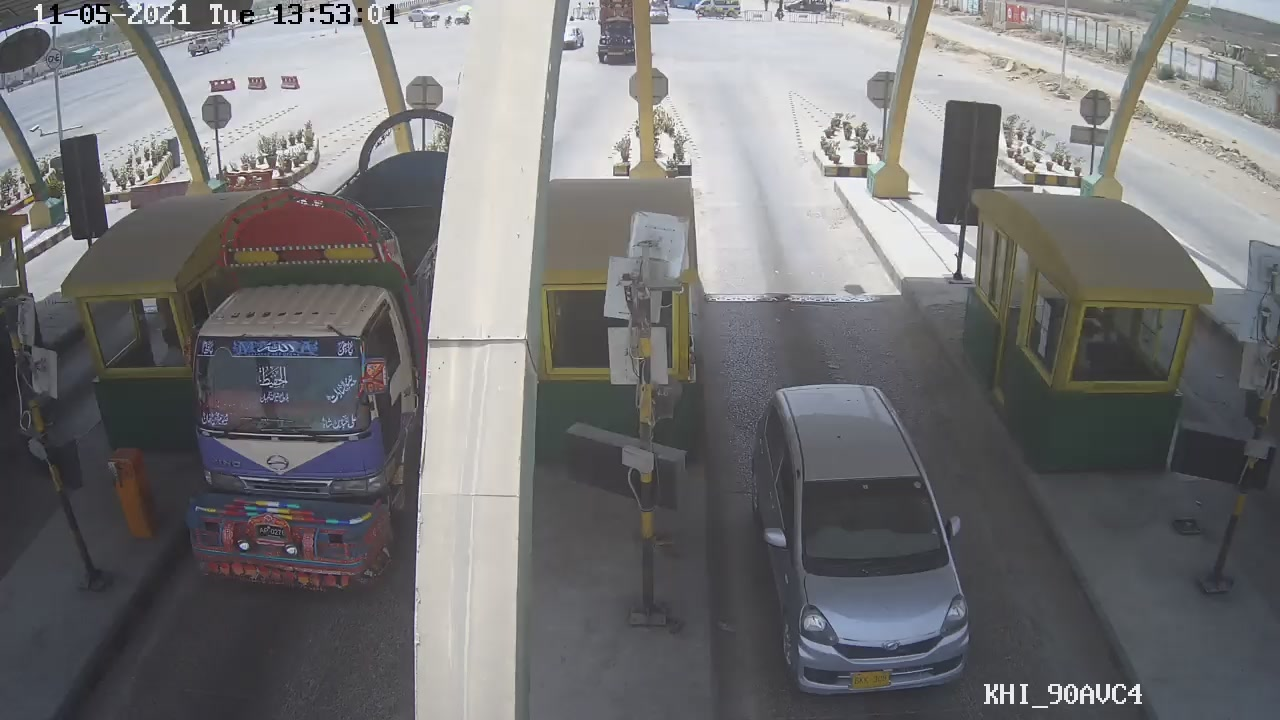F1: (748, 381, 979, 703)
